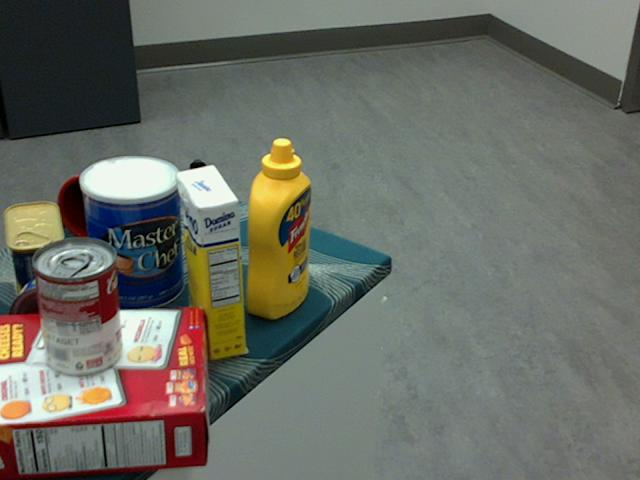cracker_box: (0, 308, 208, 477)
large_marker: (190, 158, 209, 253)
master_chef_can: (78, 155, 183, 312)
mug: (56, 157, 147, 245)
mustard_bottle: (244, 136, 311, 319)
potted_meat_can: (3, 199, 69, 311)
sugar_box: (176, 163, 245, 361)
tomato_soup_can: (31, 238, 120, 376)
tuna_fish_can: (8, 271, 103, 360)
